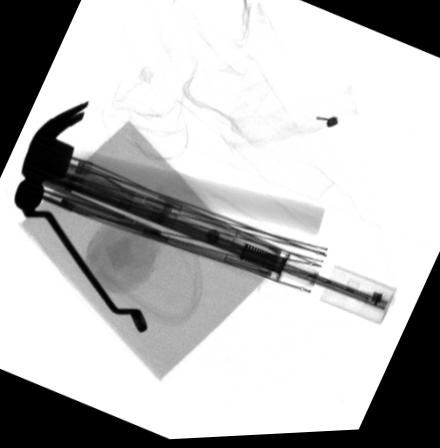Hammer: (13, 100, 326, 239)
Wrench: (16, 189, 147, 332)
